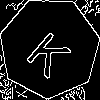K: (24, 23, 79, 80)
